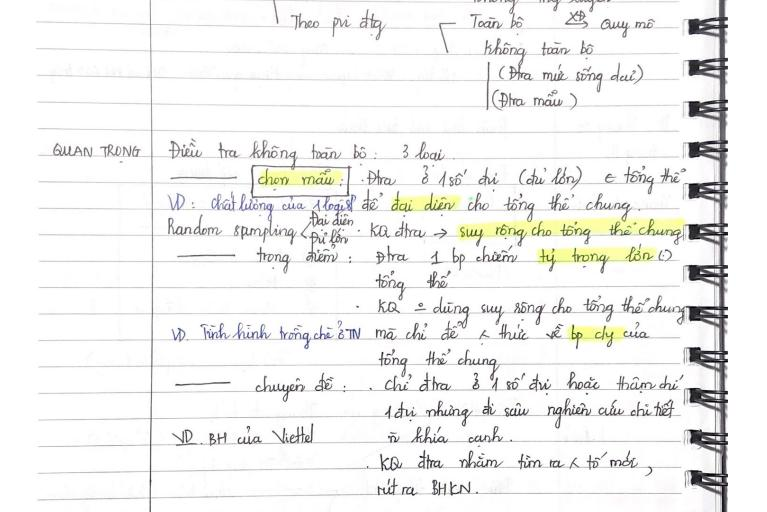text: (165, 185, 634, 223), (167, 320, 650, 351), (375, 293, 688, 328), (363, 163, 687, 195), (383, 397, 676, 431), (166, 136, 446, 171), (372, 244, 674, 274), (377, 448, 655, 477), (380, 371, 687, 396), (458, 217, 684, 247), (497, 60, 646, 94), (376, 347, 502, 381), (164, 214, 298, 245), (169, 421, 316, 449), (482, 36, 596, 67), (289, 7, 388, 42), (385, 423, 505, 448), (564, 10, 657, 39), (253, 371, 335, 403), (255, 244, 339, 275), (372, 269, 453, 301), (375, 476, 480, 499), (490, 88, 578, 112), (49, 143, 143, 165), (255, 167, 337, 191), (469, 12, 526, 37), (368, 220, 428, 239), (308, 212, 355, 231), (308, 228, 350, 247)
